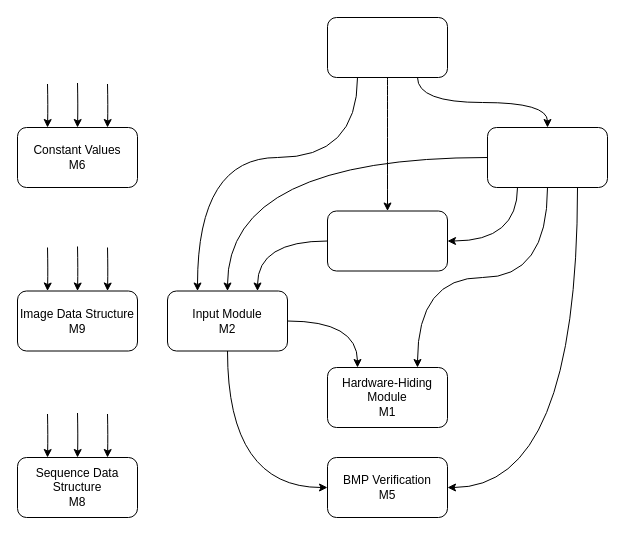
This 625x535 diagram has some shape labels left out. The shapes that lost their labels are listed below. From the top down, each one's centre as x and y in pixels, then its label:
the point at 387,47: Control Module M7
the point at 547,157: Output Module M3
the point at 387,240: Optimal Thresholds Calculation M4
